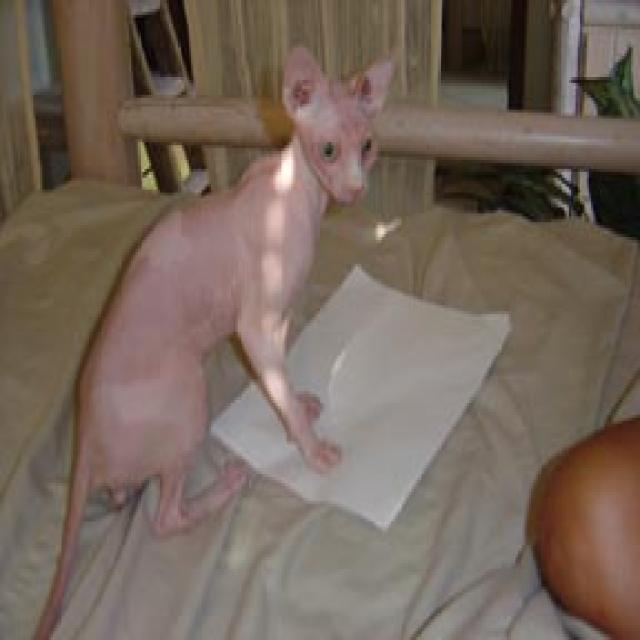Sphynx: (277, 37, 400, 211)
